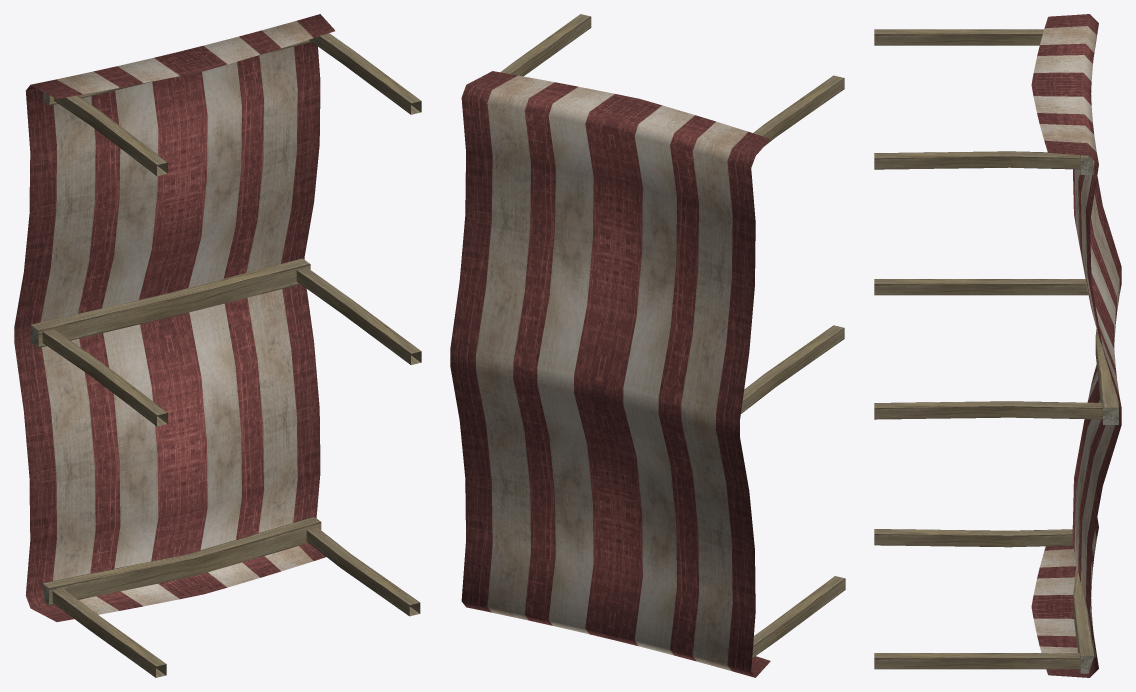
File: Merchant_Tent_Type_03_C.fbx
3 views of the same model, side by side, from view 1: azimuth 30°, elevation 25°; view 2: azimuth 150°, elevation 25°; view 3: azimuth 270°, elevation 25° (orthographic).
Visible parts, largest first — view 1: Merchant_Tent_Type_03_C; view 2: Merchant_Tent_Type_03_C; view 3: Merchant_Tent_Type_03_C.
Part boxes in pixels (x1=…): Merchant_Tent_Type_03_C: x1=14, y1=14, x2=421, y2=677; Merchant_Tent_Type_03_C: x1=450, y1=14, x2=845, y2=677; Merchant_Tent_Type_03_C: x1=874, y1=14, x2=1121, y2=677.
Bounding box in the file's own units: 5.26 × 9.08 × 3.89.
